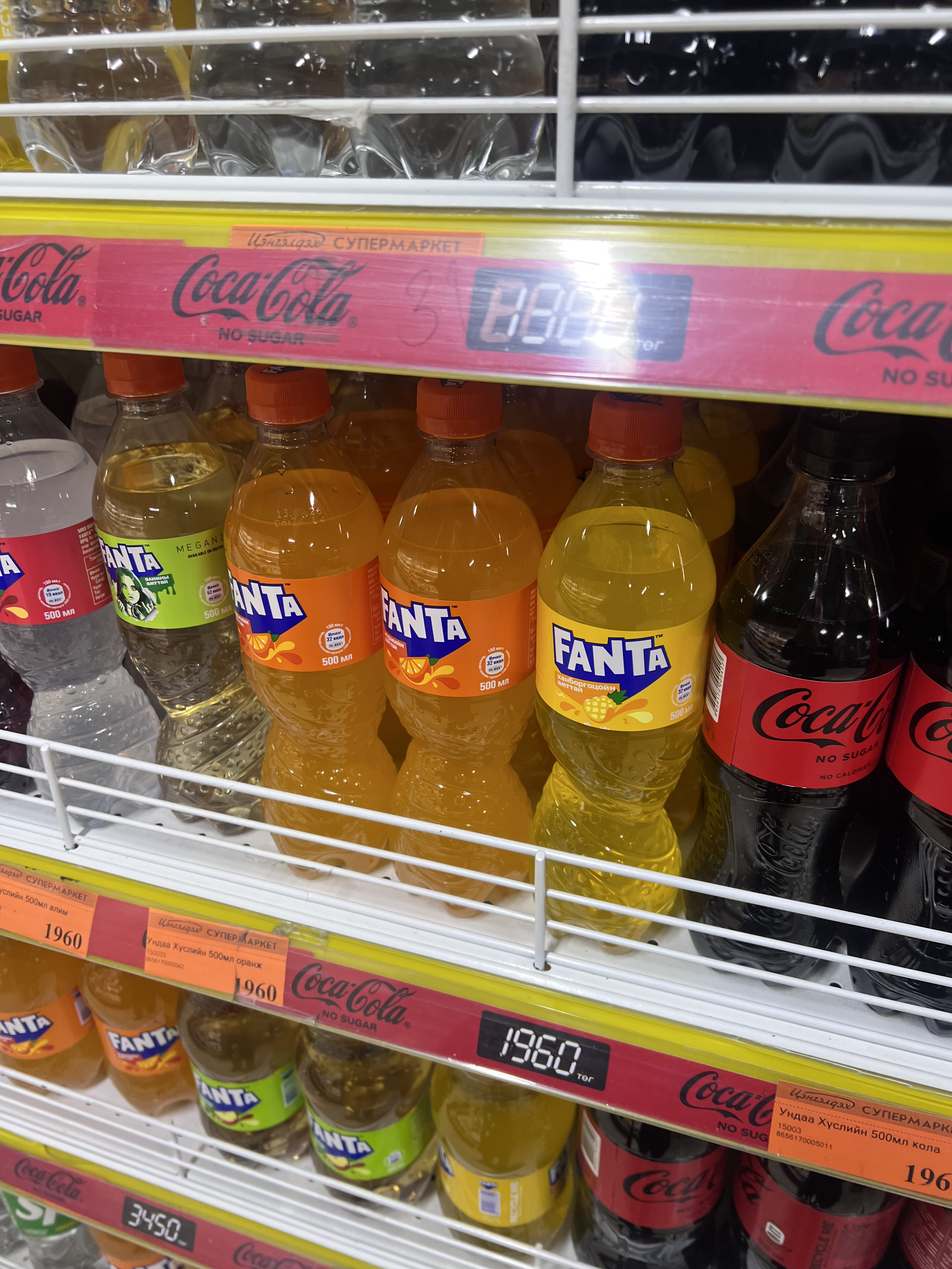coca_cola_500ml: (687, 409, 907, 908), (848, 466, 952, 933), (572, 1108, 727, 1269), (722, 1156, 904, 1269), (890, 1201, 952, 1269)
fanta_500ml: (532, 384, 688, 935), (225, 366, 395, 811), (380, 379, 541, 841)
